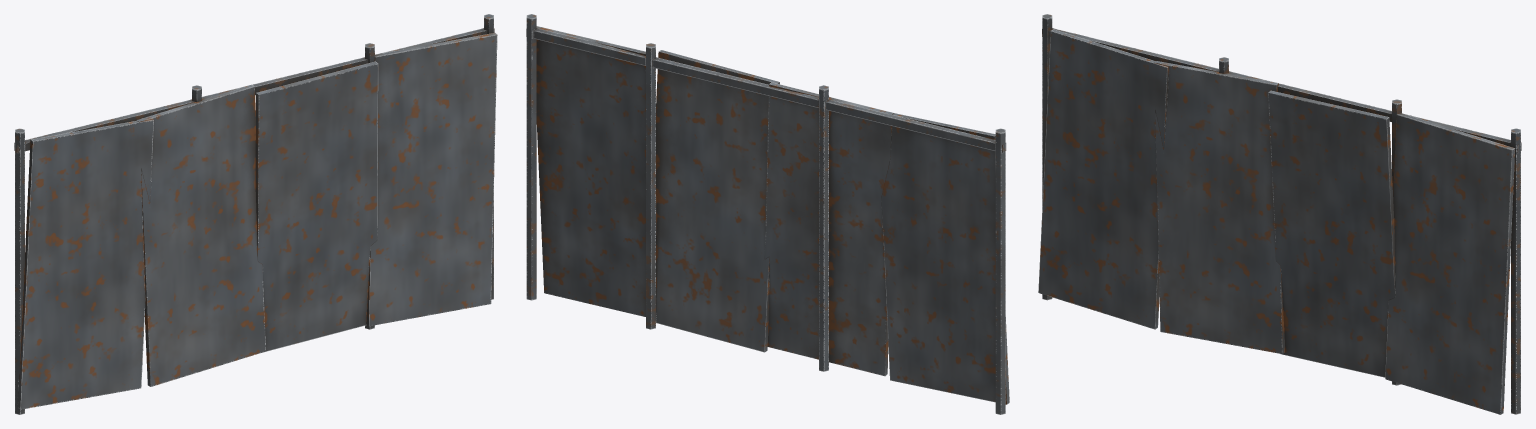
The model's file is Valla_Chapa.glb.
The picture shows the model from 3 angles, left to right: view 1: azimuth 30°, elevation 25°; view 2: azimuth 150°, elevation 25°; view 3: azimuth 330°, elevation 25°; orthographic projection.
Visible parts, largest first — view 1: Valla_Chapa; view 2: Valla_Chapa; view 3: Valla_Chapa.
Part boxes in pixels (box(x1,y1,x2,y2)): Valla_Chapa: box(14, 14, 497, 414); Valla_Chapa: box(526, 14, 1009, 414); Valla_Chapa: box(1038, 14, 1521, 414).
Size of the model in its own units: 12.46 by 7 by 0.5348.
Materials: 1 (1 with a texture image).
